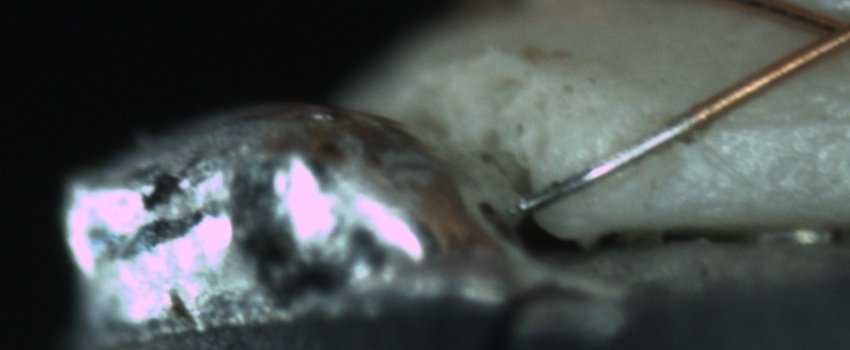CL: (795, 2, 849, 62)
DL: (699, 94, 849, 158)
TS: (517, 114, 697, 212)
